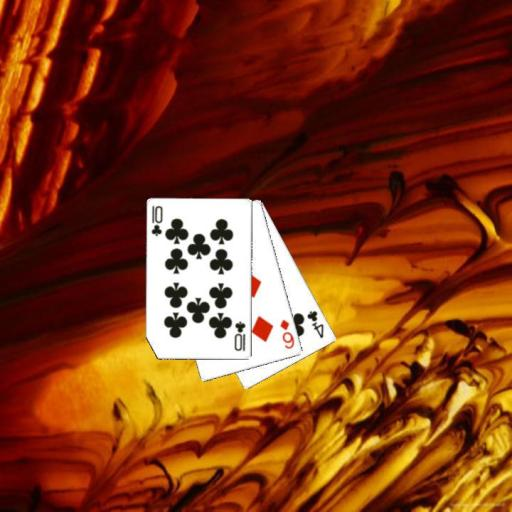10C: (149, 203, 164, 238), (232, 319, 247, 353)
4C: (304, 307, 326, 340)
6D: (277, 317, 296, 351)
